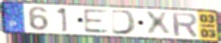1: (55, 7, 69, 33)
6: (27, 6, 50, 32)
D: (110, 9, 138, 36)
E: (82, 8, 111, 34)
R: (170, 12, 200, 38)
X: (143, 11, 174, 37)
